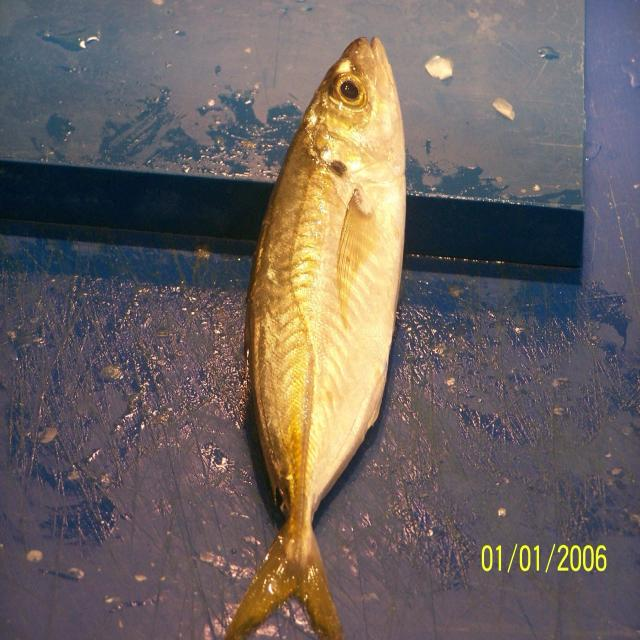Hourse-Mackerel-istavrit-: (223, 37, 407, 640)
